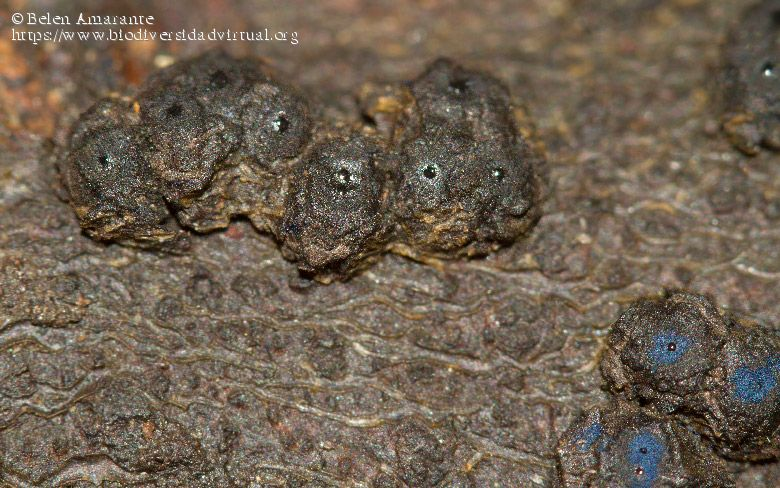pudricion radicular: (58, 55, 769, 459)
